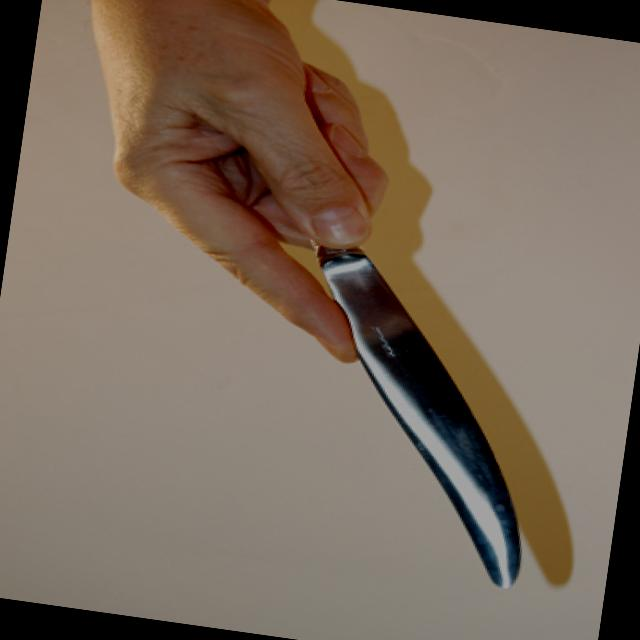knife: (155, 173, 578, 602)
